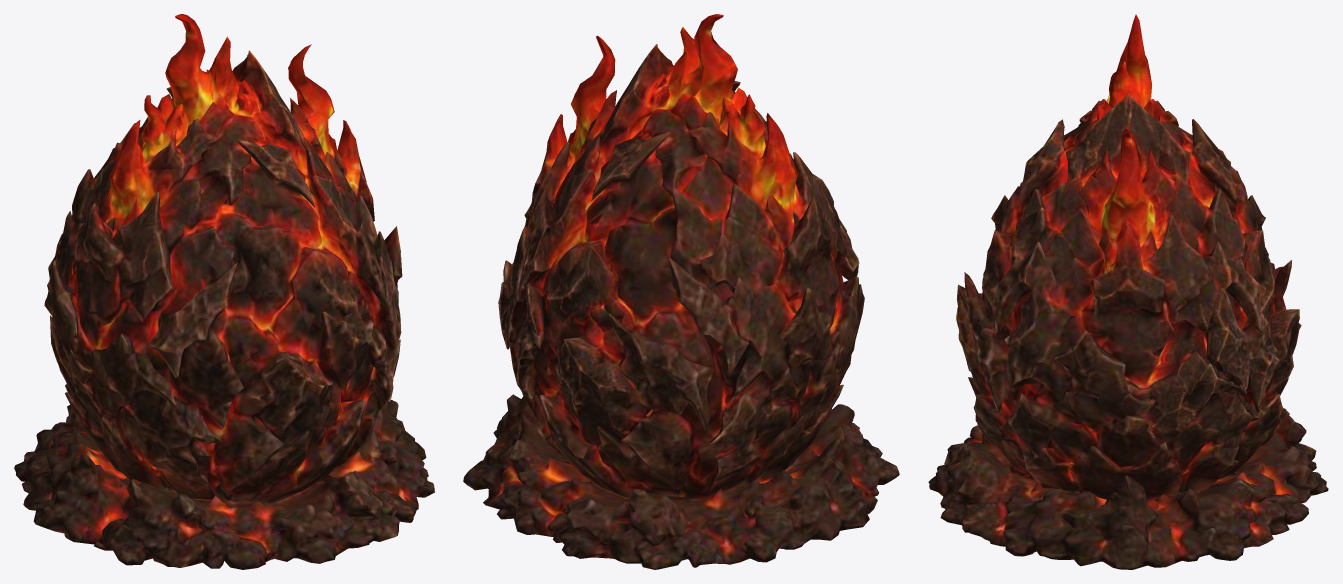
Rendered from fire_ember-egg.glb.
The picture shows the model from 3 angles, left to right: view 1: azimuth 30°, elevation 25°; view 2: azimuth 150°, elevation 25°; view 3: azimuth 270°, elevation 25°; orthographic projection. The views are drawn at different scales.
Parts seen in each view (by area): view 1: tripo_node_c3b83110-baa4-467f-86f3-acb71ecb227d; view 2: tripo_node_c3b83110-baa4-467f-86f3-acb71ecb227d; view 3: tripo_node_c3b83110-baa4-467f-86f3-acb71ecb227d.
Boxes of the visible parts, <box> form: tripo_node_c3b83110-baa4-467f-86f3-acb71ecb227d: <box>14,14,434,569</box>; tripo_node_c3b83110-baa4-467f-86f3-acb71ecb227d: <box>463,14,899,569</box>; tripo_node_c3b83110-baa4-467f-86f3-acb71ecb227d: <box>928,14,1328,569</box>.
Size of the model in its own units: 0.7972 by 0.9794 by 0.7833.
Materials: 1 (1 with a texture image).
